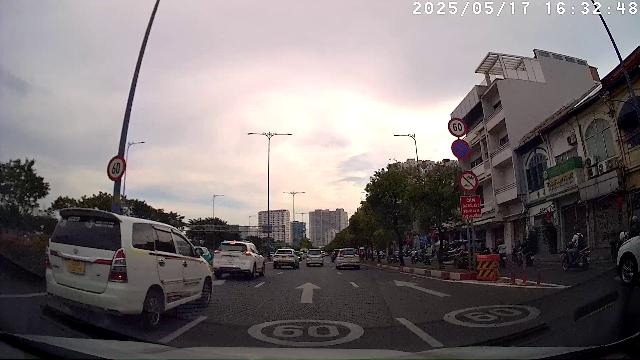127-toc-do-toi-da-60: (107, 154, 127, 181), (447, 117, 468, 138)
130-cam-dung-va-do-xe: (451, 139, 471, 160)
